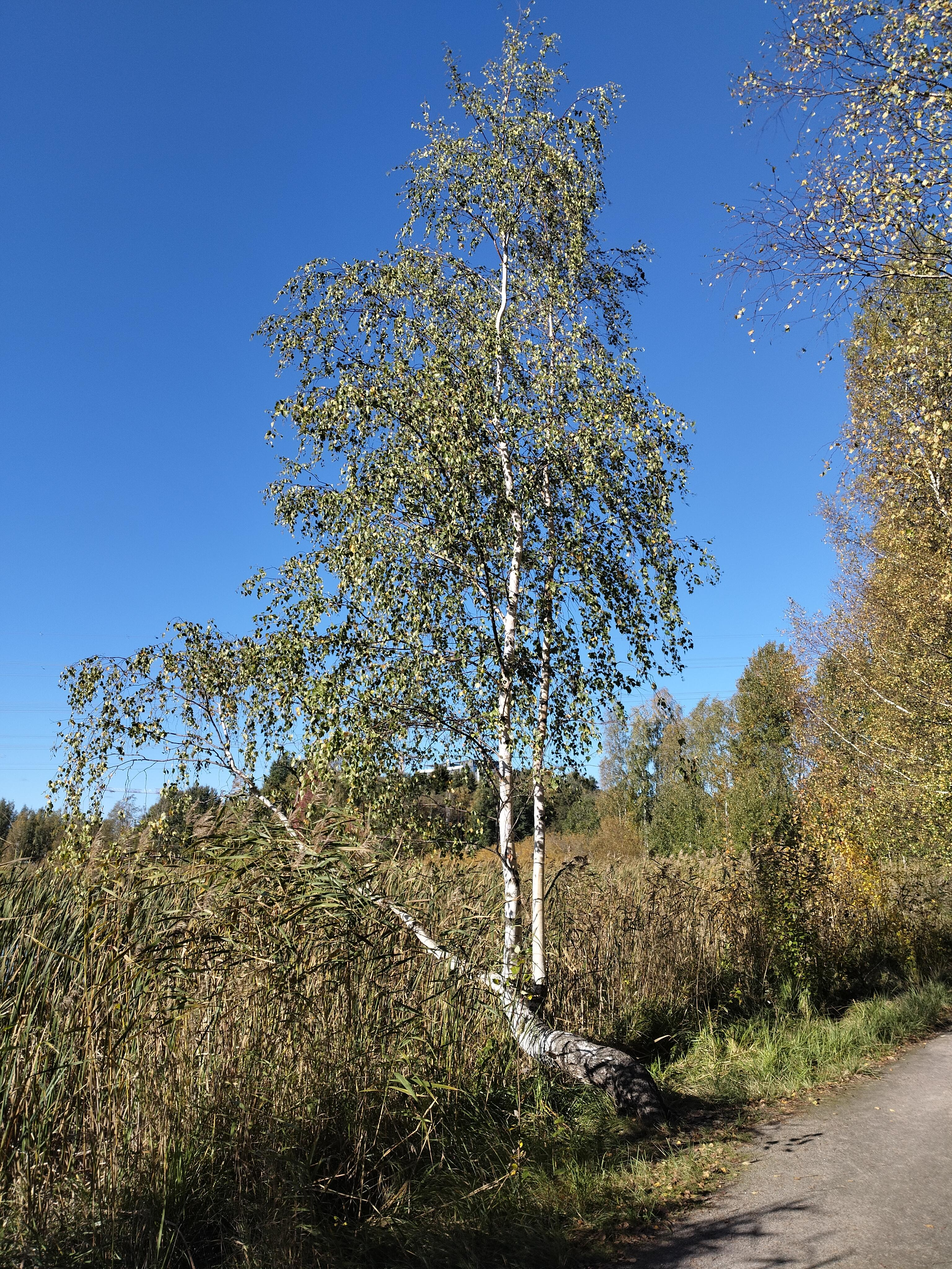Birch: (236, 0, 714, 1001)
